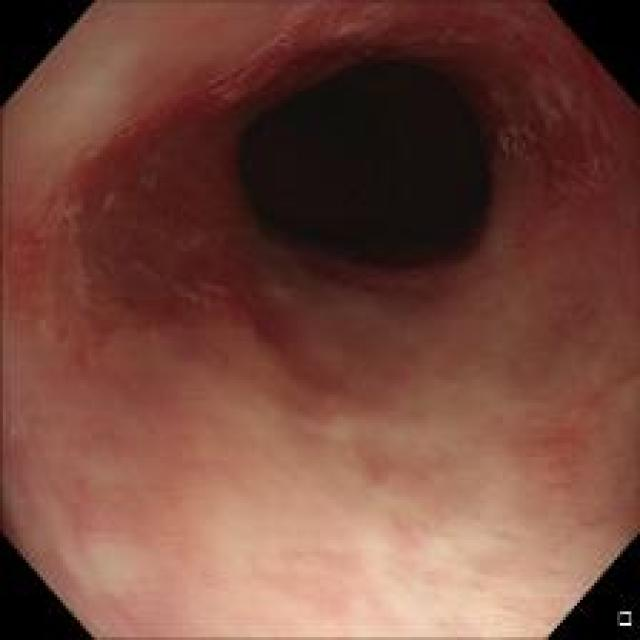contrast: (202, 30, 510, 279)
